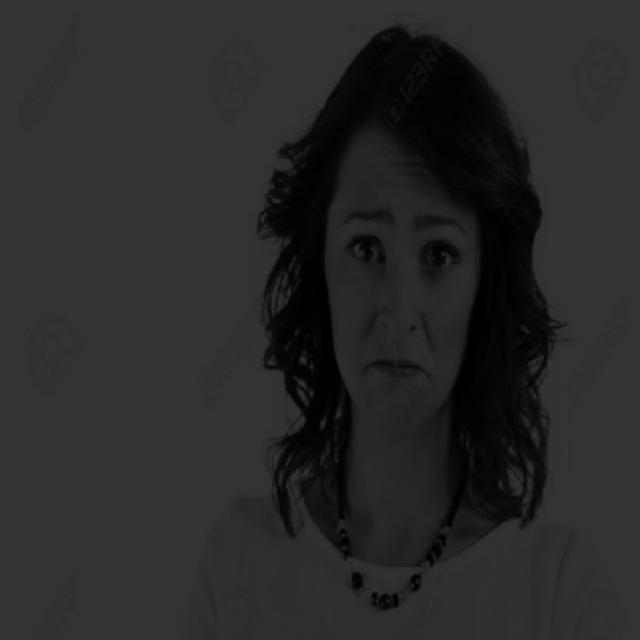Sad: (259, 60, 521, 430)
